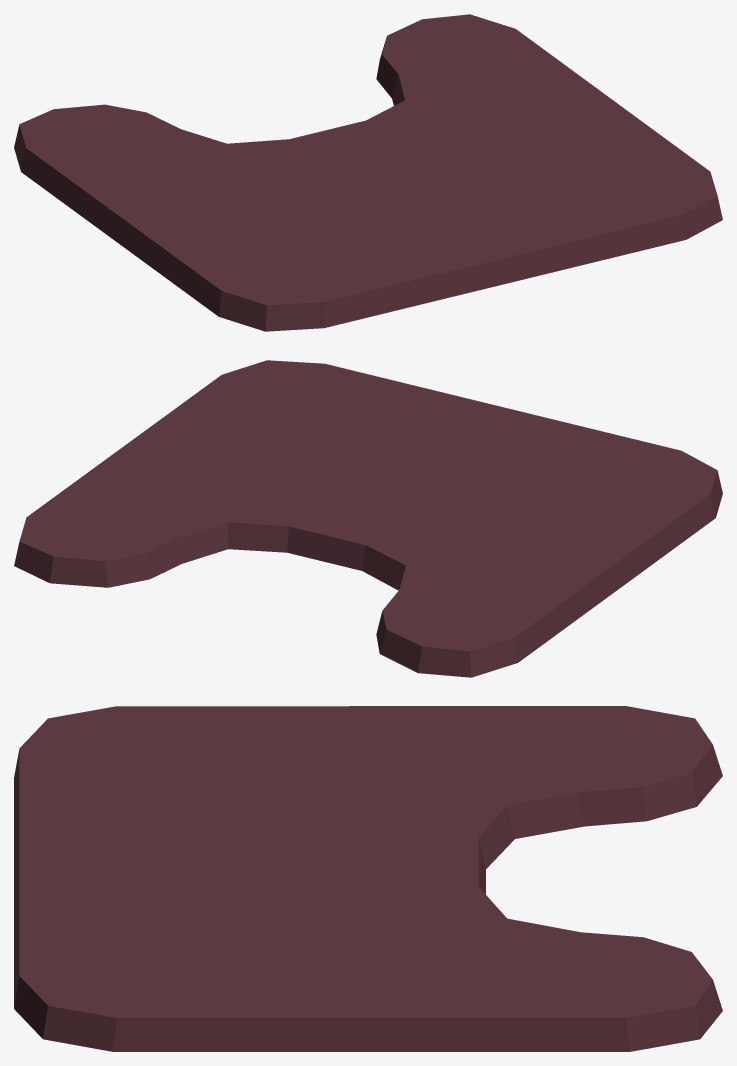
The model's file is furniture-mat-pedestal.glb.
3 renders of one model, top to bottom at view 1: azimuth 30°, elevation 25°; view 2: azimuth 150°, elevation 25°; view 3: azimuth 270°, elevation 25°, orthographic. The views are drawn at different scales.
Parts seen in each view (by area): view 1: mat-pedestal; view 2: mat-pedestal; view 3: mat-pedestal.
Part boxes in pixels (<box>): mat-pedestal: <box>14,14,722,331</box>; mat-pedestal: <box>14,360,722,677</box>; mat-pedestal: <box>14,706,722,1051</box>.
Bounding box in the file's own units: 0.65 × 0.03 × 0.6145.
